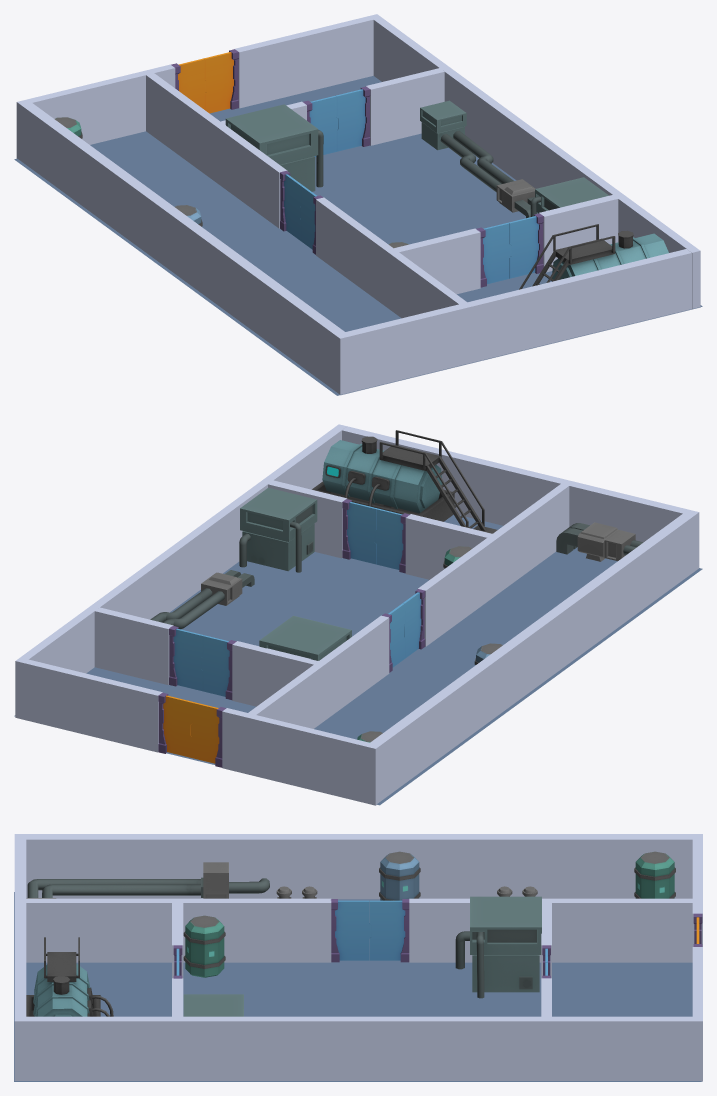
Rendered from maps_15.fbx.
The picture shows the model from 3 angles, top to bottom: view 1: azimuth 30°, elevation 25°; view 2: azimuth 150°, elevation 25°; view 3: azimuth 270°, elevation 25°; orthographic projection. The views are drawn at different scales.
Visible parts, largest first — view 1: polySurface158, polySurface154, polySurface157, polySurface156, polySurface192, polySurface160, polySurface191, polySurface159, generatorStation_05_geo1, generatorStation_04_geo1, door_01_geo (×3), polySurface150 (+8 smaller); view 2: polySurface158, polySurface157, polySurface156, polySurface154, polySurface159, polySurface191, tankwater_geo1, polySurface160, polySurface192, generatorStation_05_geo2, polySurface150, door_01_geo (×3) (+11 smaller); view 3: polySurface156, polySurface157, polySurface158, polySurface191, polySurface192, generatorStation_05_geo1, generatorStation_03_geo1, tankwater_geo1, polySurface154, tank_03_geo, door_01_geo, door_02_geo (+10 smaller).
Part boxes in pixels (x1,y1,x2,y2): polySurface158: (14,76,702,395); polySurface154: (334,249,691,395); polySurface157: (17,99,349,390); polySurface156: (369,14,700,309); polySurface192: (146,73,287,228); polySurface160: (234,16,373,108); polySurface191: (316,197,467,318); polySurface159: (16,64,175,161); generatorStation_05_geo1: (225,104,323,191); generatorStation_04_geo1: (420,100,536,218); door_01_geo (×3): (284,89,538,278); polySurface150: (365,68,444,145); polySurface158: (14,514,702,805); polySurface157: (365,510,698,803); polySurface156: (15,424,346,719); polySurface154: (342,426,699,571); polySurface159: (222,708,380,805); polySurface191: (418,483,569,646); tankwater_geo1: (312,430,497,533); polySurface160: (23,659,162,752); polySurface192: (248,615,389,728); generatorStation_05_geo2: (239,487,317,572); polySurface150: (94,607,173,685); door_01_geo (×3): (173,502,404,691); polySurface156: (14,1016,702,1081); polySurface157: (15,834,702,899); polySurface158: (14,892,701,1081); polySurface191: (26,898,331,962); polySurface192: (409,898,692,962); generatorStation_05_geo1: (455,896,541,998); generatorStation_03_geo1: (26,862,269,898); tankwater_geo1: (26,937,113,1016); polySurface154: (14,834,26,1016); tank_03_geo: (183,915,225,977); door_01_geo: (369,900,405,960); door_02_geo: (335,900,371,960).
Size of the model in its own units: 59.86 by 12.65 by 91.75.
7 materials, 7 textured.
